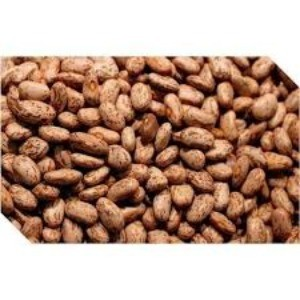beans_brain food: (85, 97, 200, 213)
